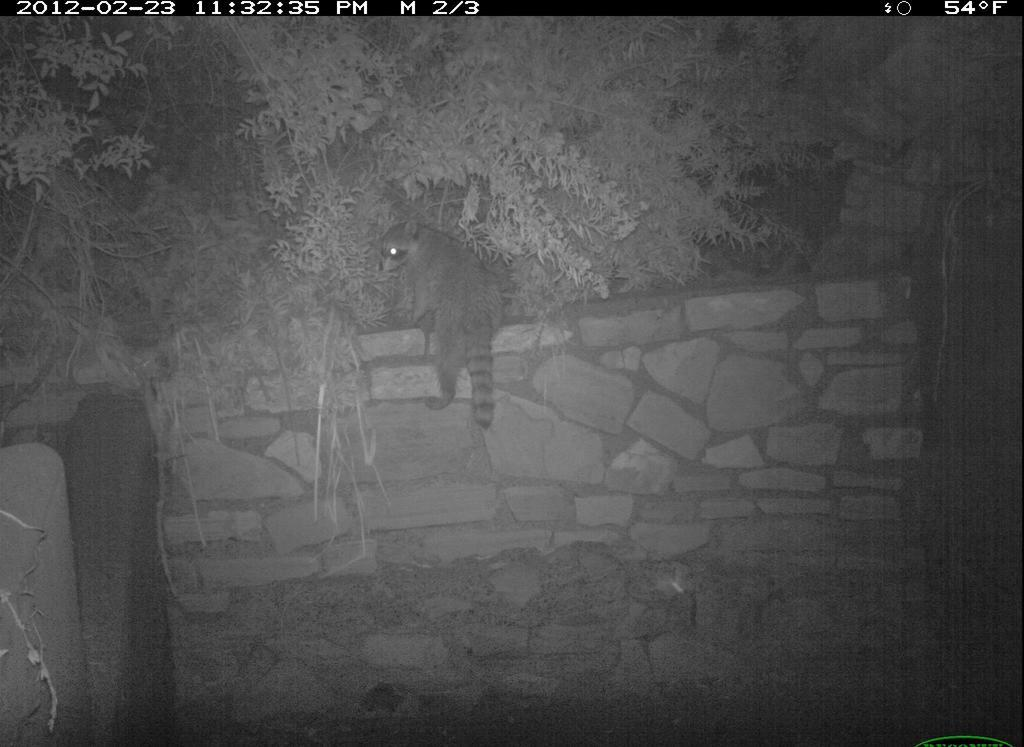raccoon: (363, 213, 521, 433)
